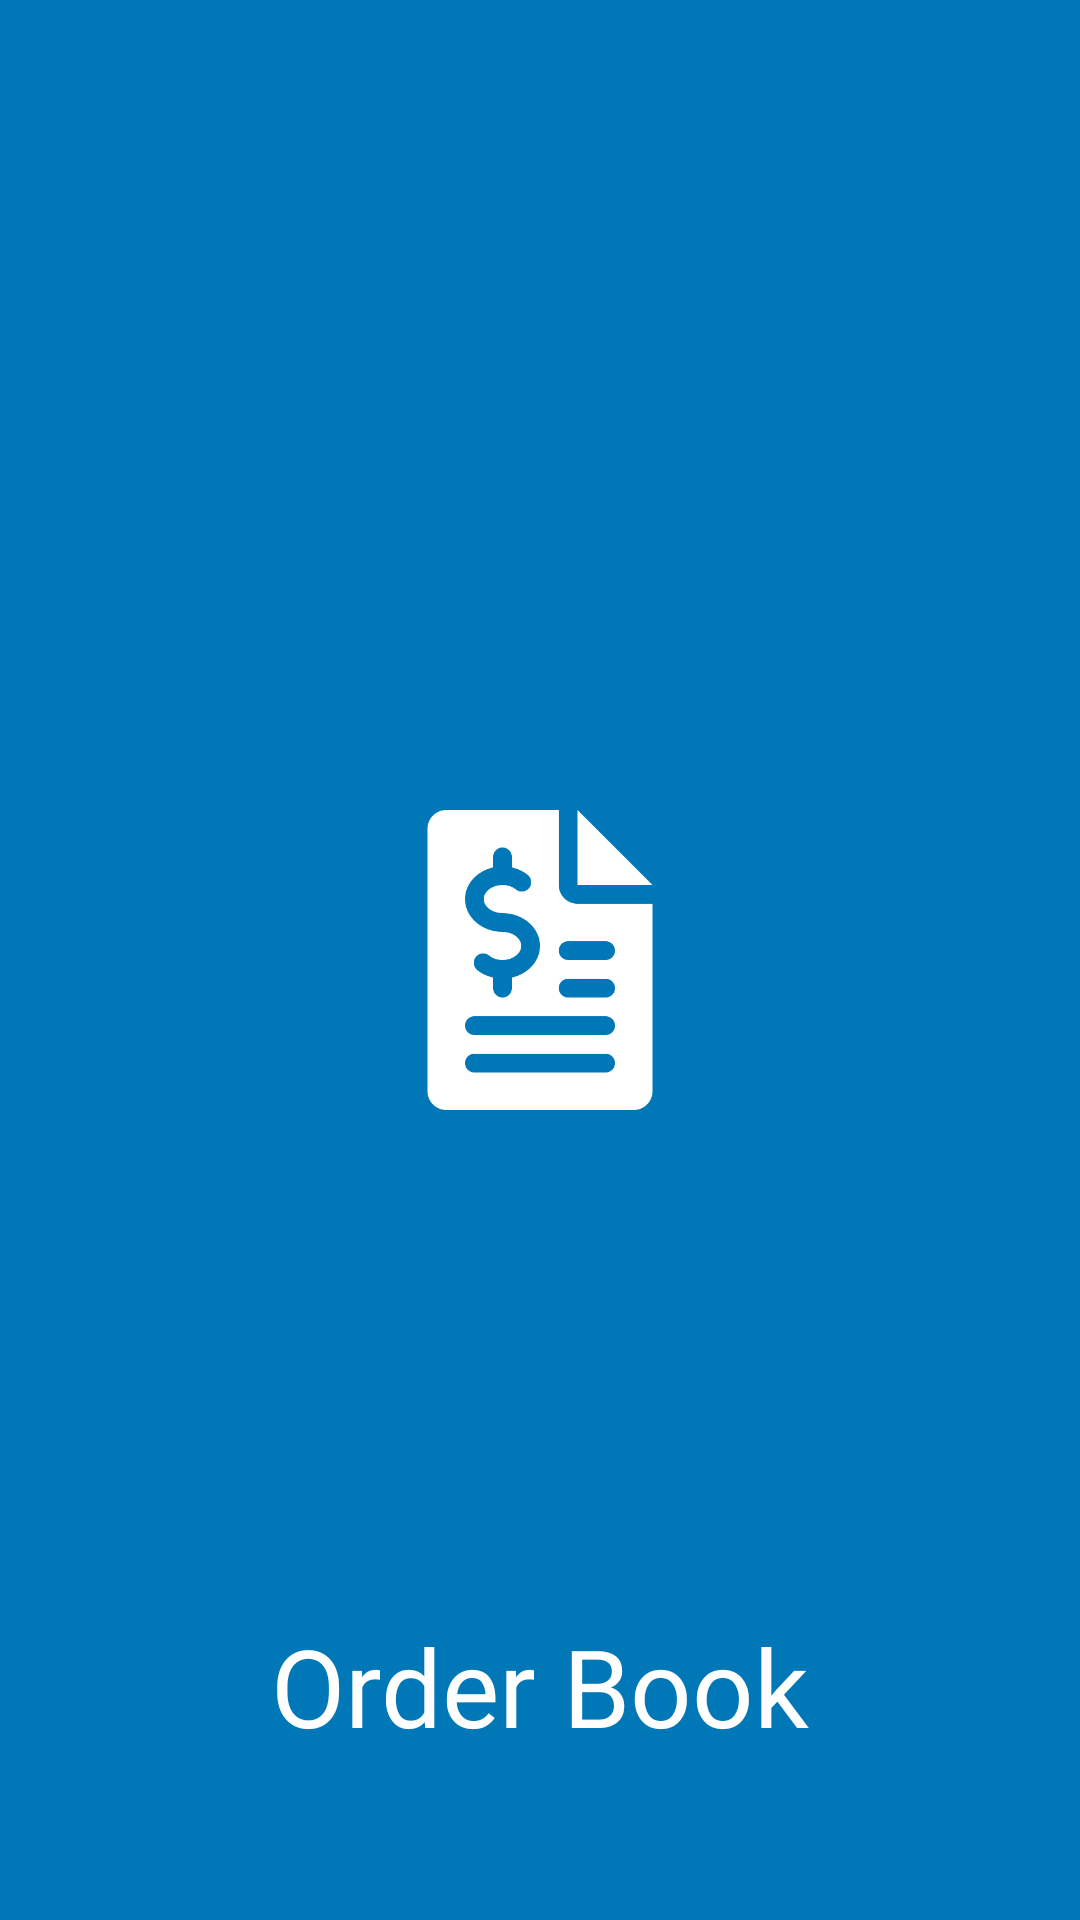

Named icons in this screenshot (1080*1920) and their bounding boxes, [left=x1, top=y1, right=x2, bottom=y2]:
invoice app: [left=427, top=810, right=653, bottom=1110]
